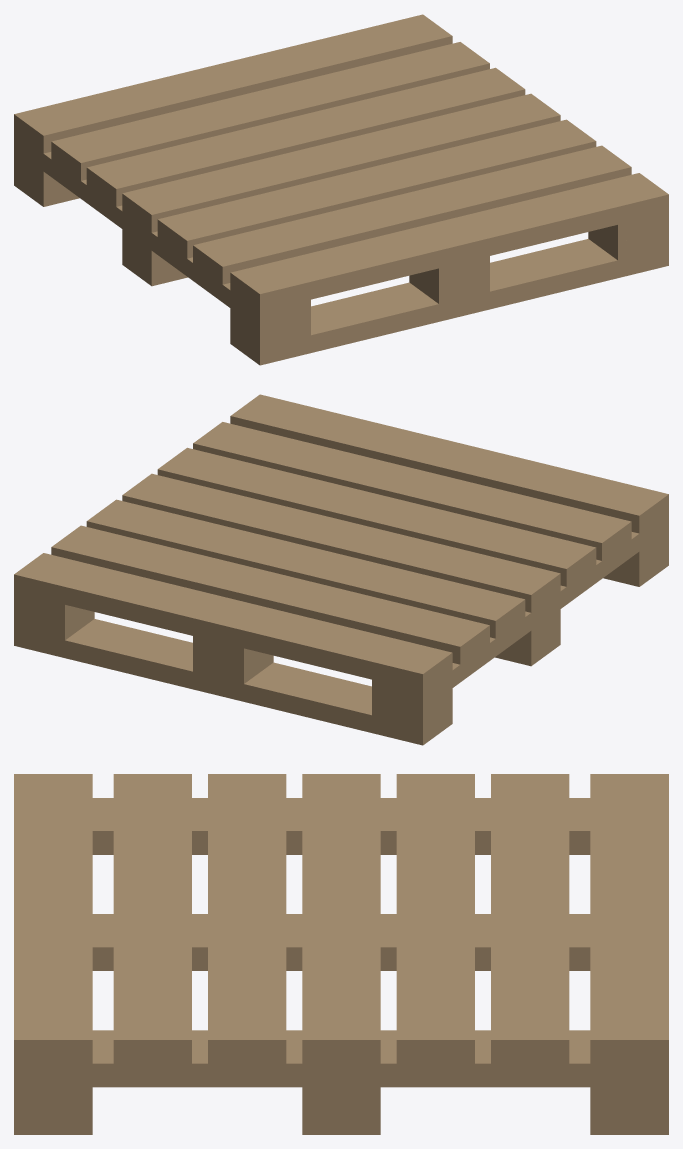
File: woodenpallet.fbx
The picture shows the model from 3 angles, top to bottom: view 1: azimuth 30°, elevation 25°; view 2: azimuth 150°, elevation 25°; view 3: azimuth 270°, elevation 25°; orthographic projection. The views are drawn at different scales.
Visible parts, largest first — view 1: Cube.004; view 2: Cube.004; view 3: Cube.004.
Boxes of the visible parts, <box> form: Cube.004: <box>14,14,668,365</box>; Cube.004: <box>14,394,668,745</box>; Cube.004: <box>14,774,668,1134</box>.
Bounding box in the file's own units: 240 × 40 × 250.
